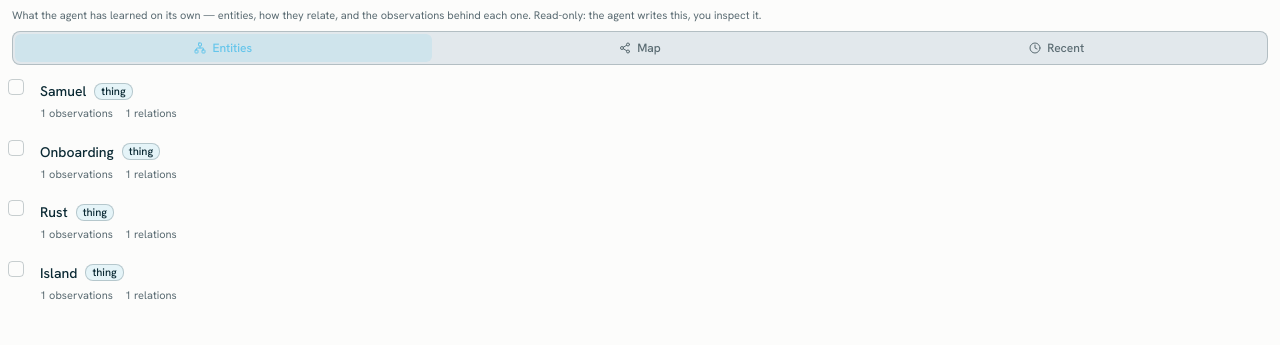
where the selection controls sit › still shows them on the entity list, which has no search box
Click the checkbox named "Select Samuel". click: {"x": 16, "y": 87}
box: [8,79,24,95]
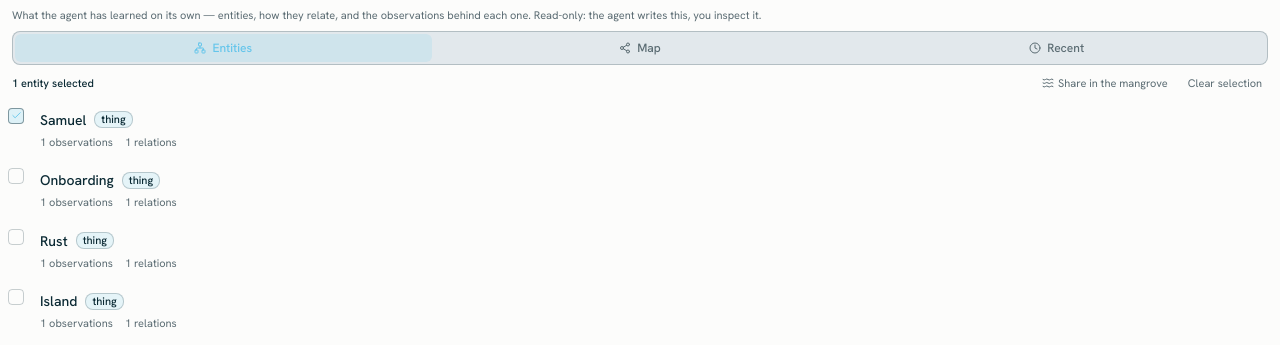
Now the text "1 entity selected" is shown, box [12,75,94,92]
Now the button "Share in the mangrove" is shown, box [1036,73,1174,94]
